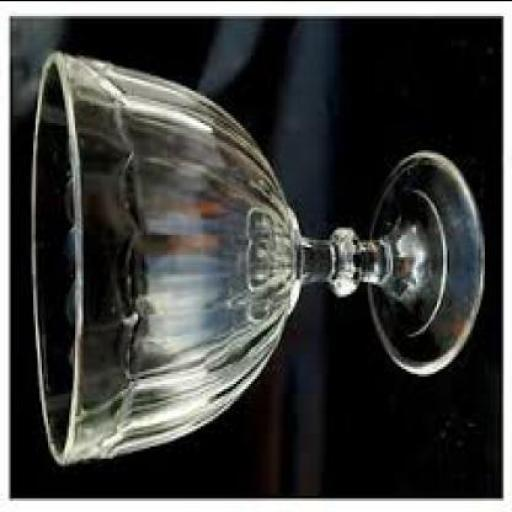glass: (29, 55, 485, 467)
